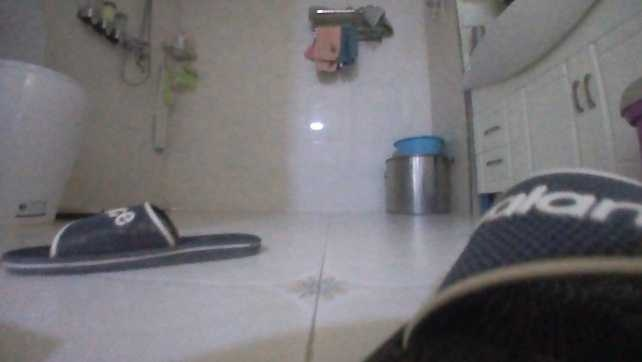slipper: (398, 164, 640, 361), (0, 195, 264, 276)
toilet: (0, 0, 92, 232)
washstand: (462, 0, 641, 201)
